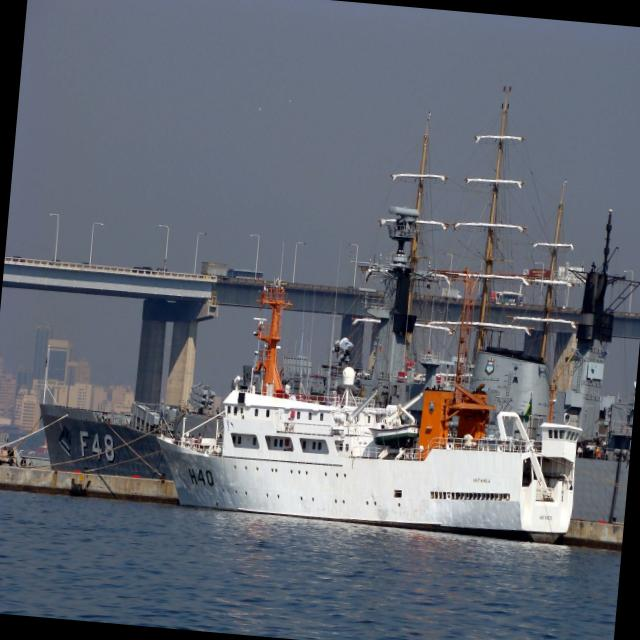Military: (159, 270, 575, 542)
